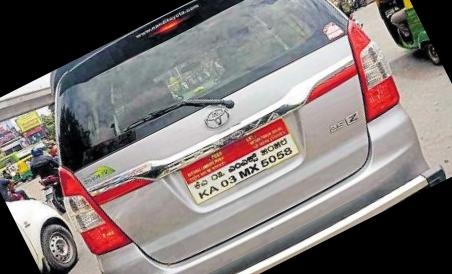plate: (162, 106, 315, 220)
